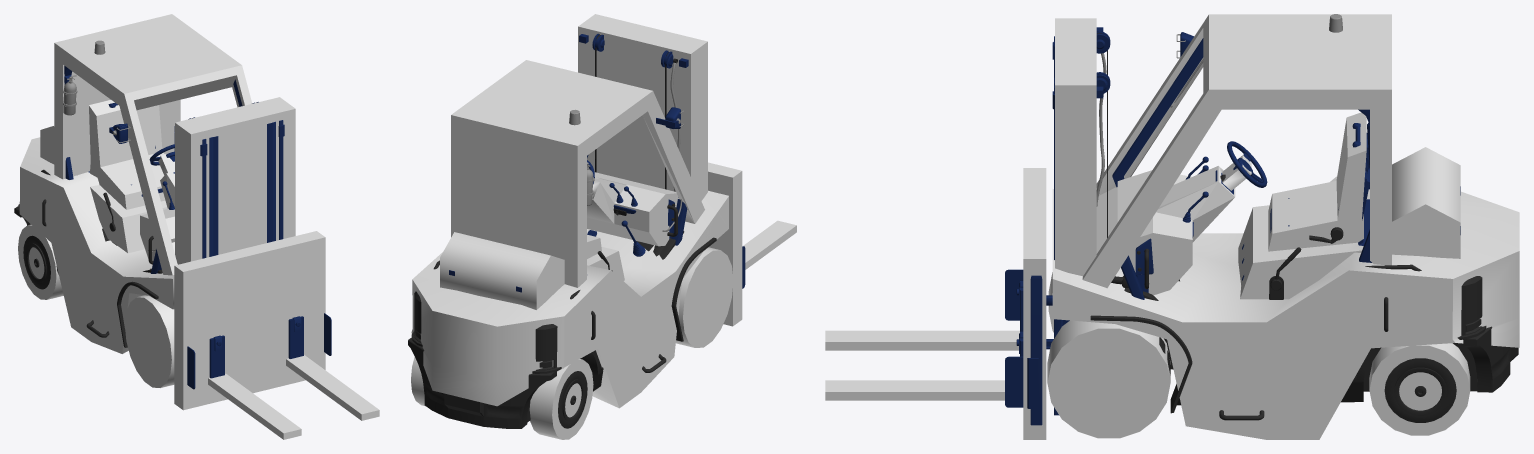
File: SFM_Forklift_truck.FBX
3 renders of one model, left to right at view 1: azimuth 30°, elevation 25°; view 2: azimuth 150°, elevation 25°; view 3: azimuth 270°, elevation 25°, orthographic. The views are drawn at different scales.
Visible parts, largest first — view 1: SF_Forklift_Base_Colider, SF_Forklift_Base2_Colider, SF_Forklift_Base_LOD0, Wheel_Right_front_Colider, SF_Forklift_Base2_LOD0, Wheel_Right_back_Colider, Wheel_Right_back_LOD0; view 2: SF_Forklift_Base_Colider, SF_Forklift_Base_LOD0, Wheel_Right_front_Colider, SF_Forklift_Base2_Colider, Wheel_Right_back_Colider, Wheel_Right_back_LOD0, Wheel_Left_back_Colider001; view 3: SF_Forklift_Base_Colider, SF_Forklift_Base_LOD0, SF_Forklift_Base2_Colider, Wheel_Right_back_, Wheel_Left_back_Colider001, SF_Forklift_Base2_LOD0, Wheel_Left_back_LOD0, steering_wheel_LOD0.
Part boxes in pixels (x1,y1,x2,y2): SF_Forklift_Base_Colider: [19, 14, 295, 353]; SF_Forklift_Base2_Colider: [174, 231, 379, 439]; SF_Forklift_Base_LOD0: [14, 40, 284, 347]; Wheel_Right_front_Colider: [125, 295, 174, 387]; SF_Forklift_Base2_LOD0: [187, 313, 331, 389]; Wheel_Right_back_Colider: [18, 224, 63, 299]; Wheel_Right_back_LOD0: [23, 235, 50, 289]; SF_Forklift_Base_Colider: [411, 14, 728, 408]; SF_Forklift_Base_LOD0: [408, 33, 716, 428]; Wheel_Right_front_Colider: [676, 247, 733, 347]; SF_Forklift_Base2_Colider: [708, 162, 796, 326]; Wheel_Right_back_Colider: [529, 359, 593, 439]; Wheel_Right_back_LOD0: [558, 371, 587, 428]; Wheel_Left_back_Colider001: [411, 357, 425, 406]; SF_Forklift_Base_Colider: [1052, 14, 1519, 439]; SF_Forklift_Base_LOD0: [1052, 14, 1518, 420]; SF_Forklift_Base2_Colider: [825, 168, 1046, 439]; Wheel_Right_back_: [1047, 320, 1170, 438]; Wheel_Left_back_Colider001: [1369, 343, 1470, 435]; SF_Forklift_Base2_LOD0: [1005, 269, 1053, 425]; Wheel_Left_back_LOD0: [1384, 358, 1456, 422]; steering_wheel_LOD0: [1227, 141, 1267, 187].
Size of what is drawn, in the model's own units: 132 by 219 by 387.
